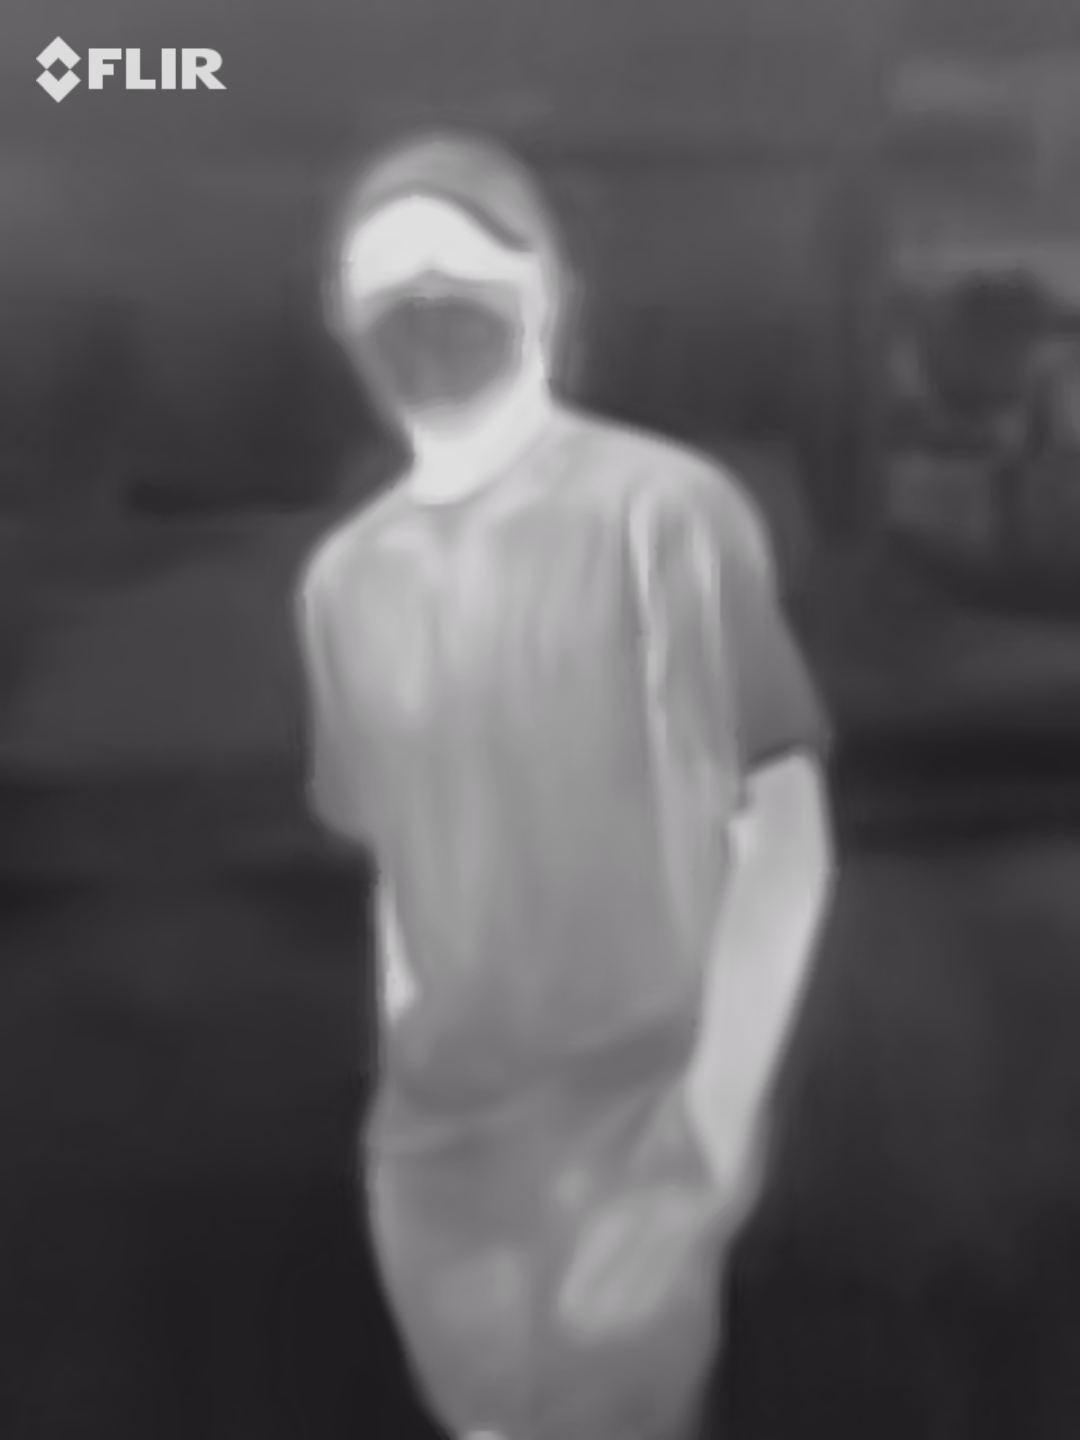head: (324, 130, 562, 454)
